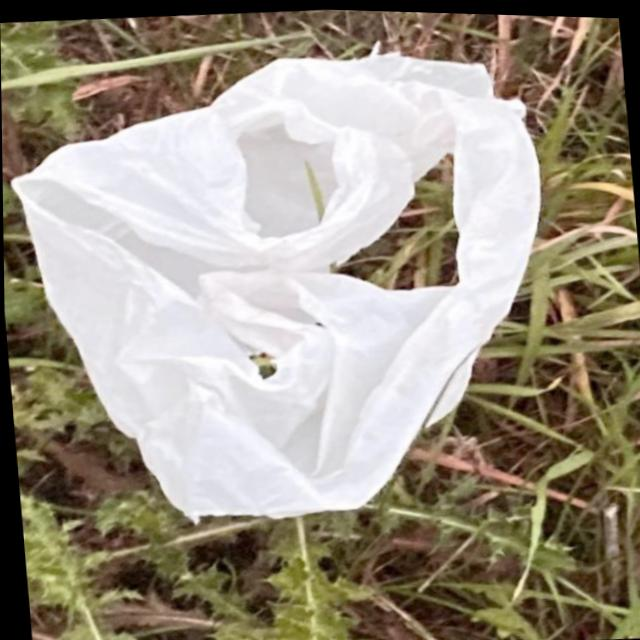Paper: (0, 25, 572, 542)
